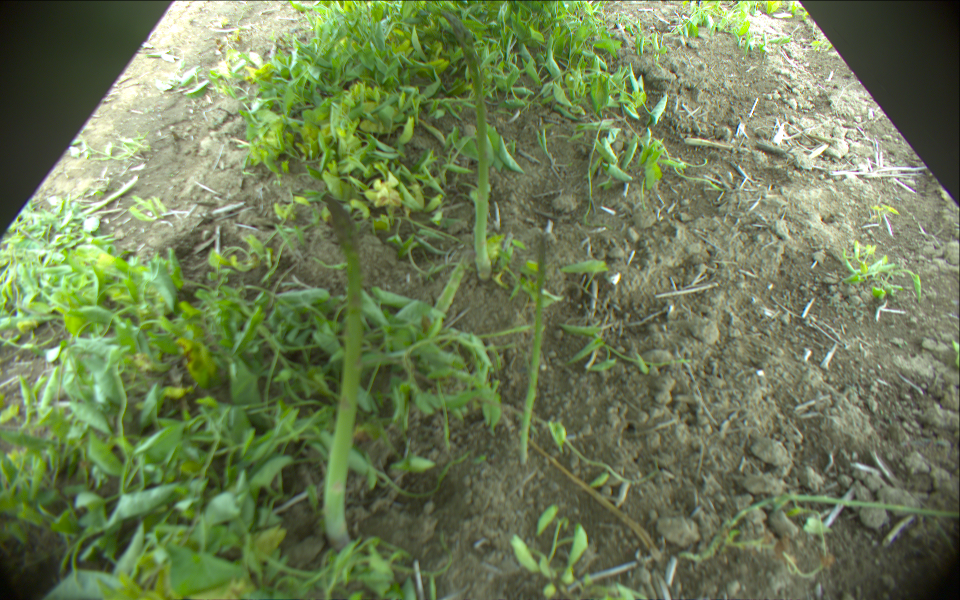aspa: (443, 13, 497, 280), (321, 194, 352, 550), (725, 492, 960, 534), (515, 236, 549, 466), (418, 257, 466, 350)
